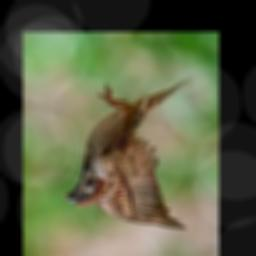Sparrow: (63, 78, 194, 230)
